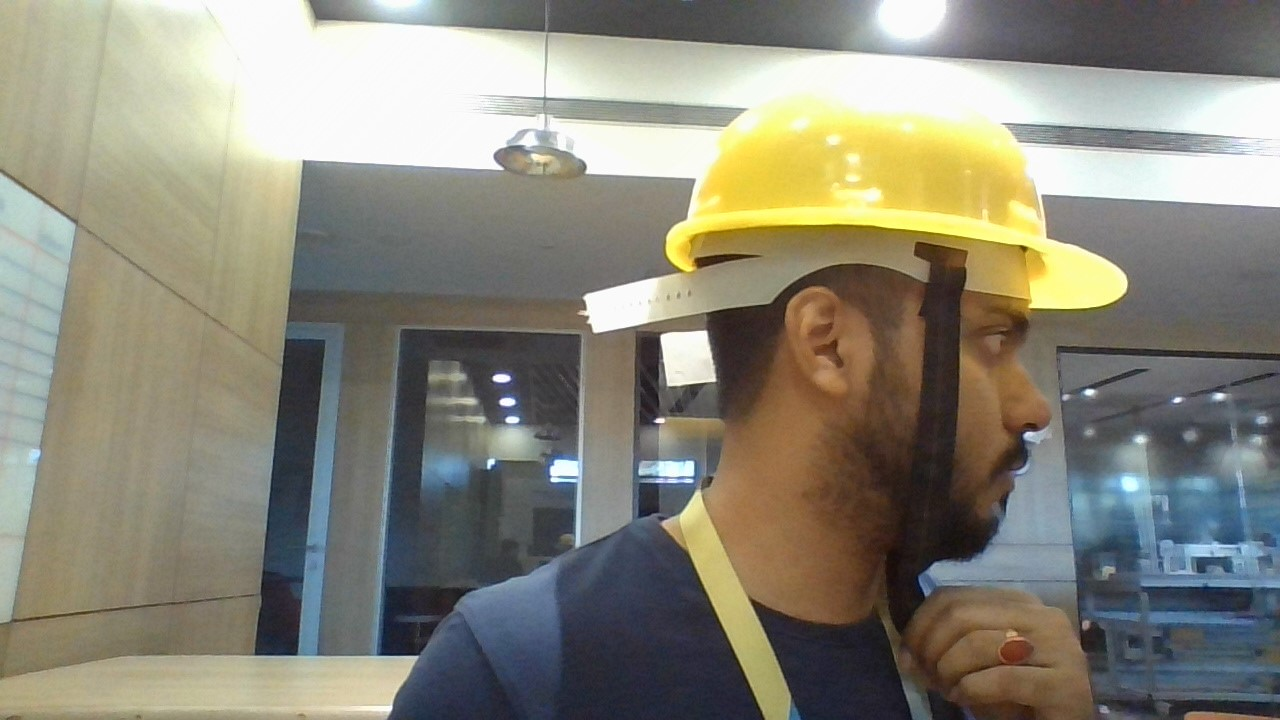Person_wearing_helmet: (654, 64, 1150, 371)
